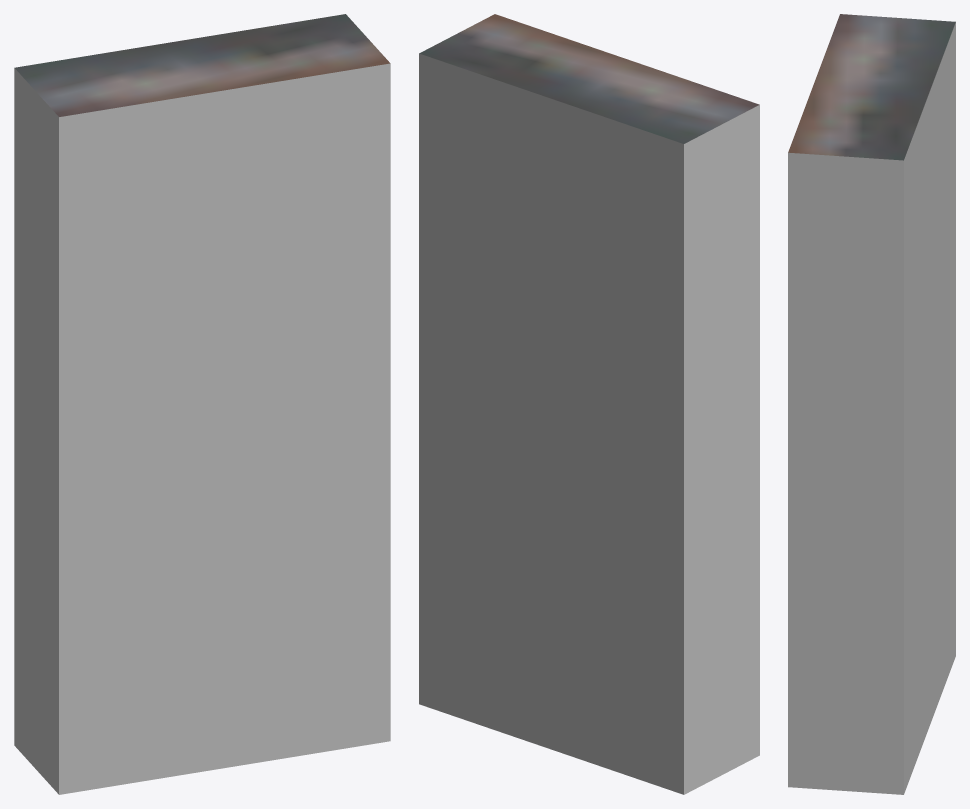
File: DEBW_0010007THXN.gltf
The picture shows the model from 3 angles, left to right: view 1: azimuth 30°, elevation 25°; view 2: azimuth 150°, elevation 25°; view 3: azimuth 270°, elevation 25°; orthographic projection. The views are drawn at different scales.
Visible parts, largest first — view 1: Z_UP; view 2: Z_UP; view 3: Z_UP.
Boxes of the visible parts, x1=… form: Z_UP: x1=14, y1=14, x2=390, y2=794; Z_UP: x1=419, y1=14, x2=759, y2=794; Z_UP: x1=788, y1=14, x2=955, y2=794.
Bounding box in the file's own units: 4.13 × 8.34 × 2.
Materials: 2 (1 with a texture image).
